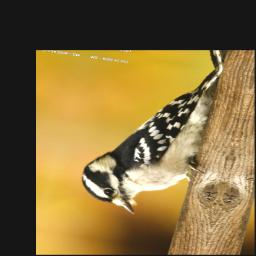Woodpecker: (72, 55, 231, 222)
